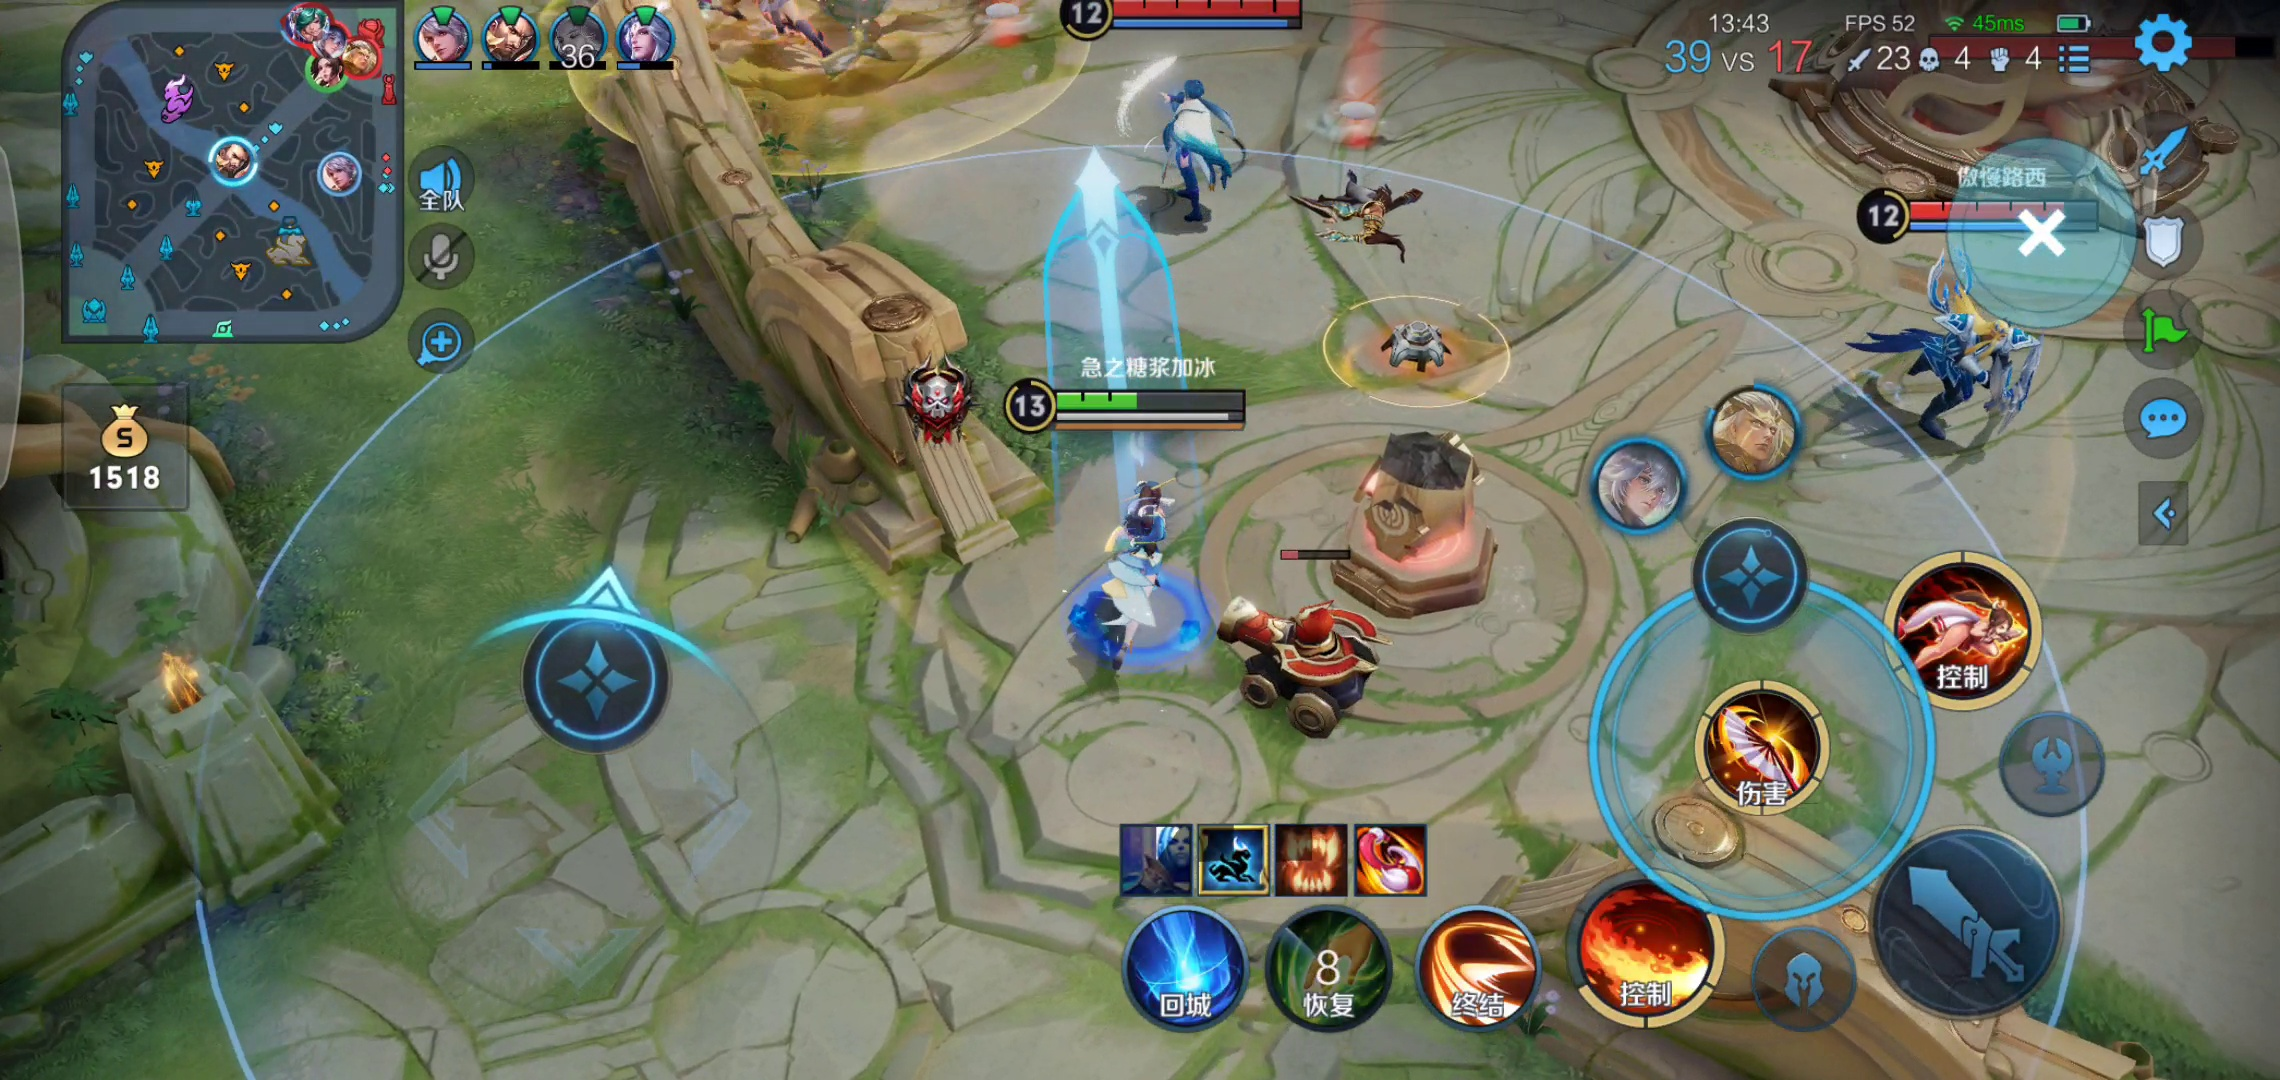hero: (1860, 257, 2044, 456), (1056, 470, 1207, 670), (1127, 63, 1259, 227), (1298, 166, 1413, 259)
soldier: (1216, 579, 1373, 746)
tower: (1314, 438, 1522, 615)
